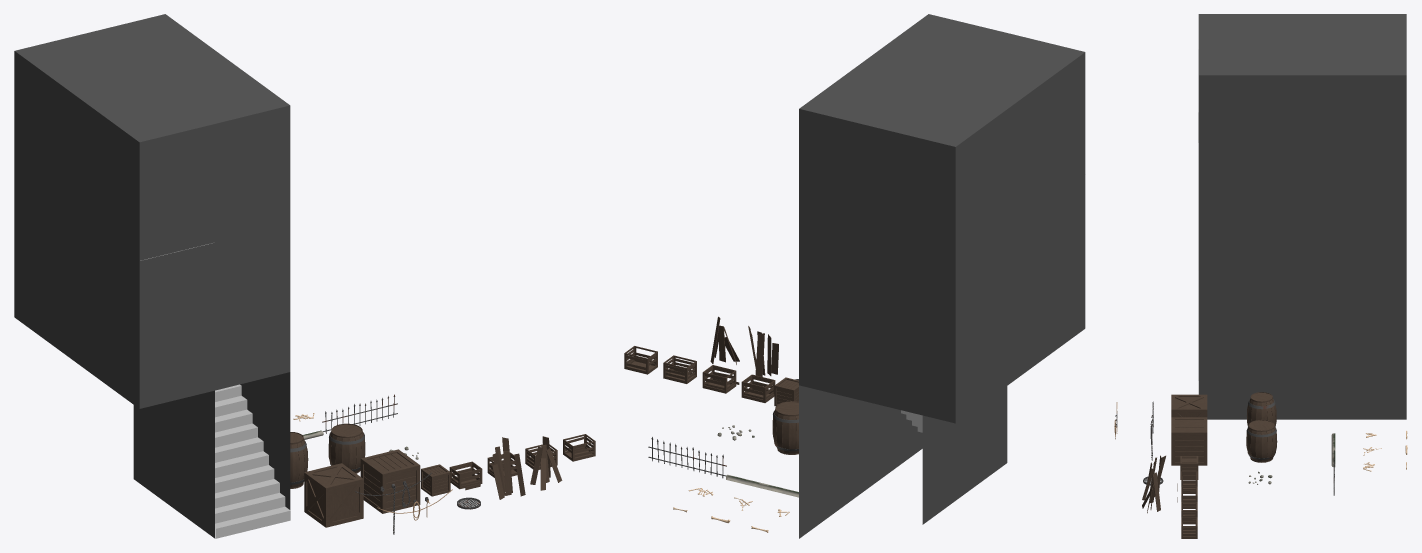
Rendered from CryptDetails1.fbx.
The picture shows the model from 3 angles, left to right: view 1: azimuth 30°, elevation 25°; view 2: azimuth 150°, elevation 25°; view 3: azimuth 270°, elevation 25°; orthographic projection. The views are drawn at different scales.
Parts seen in each view (by area): view 1: Plane, _Cube.009, CrateX, CrateBig, Barrel2, PlankStack1, Barrel1, PlankStack2, CrateSmall, CrateOpen1, CrateOpen2Broken; view 2: Plane, Barrel2, PlankStack1, CrateOpen1Broken, CrateOpen2, CrateOpen1, CrateOpen2Broken, Fence, PlankStack2, CrateSmall; view 3: Plane, CrateBig, Barrel2, CrateX, Barrel1, CrateSmall, CrateOpen2Broken.
Part boxes in pixels (<box>): Plane: <box>14,14,290,538</box>; _Cube.009: <box>215,384,290,538</box>; CrateX: <box>304,463,363,527</box>; CrateBig: <box>360,449,420,513</box>; Barrel2: <box>328,423,365,473</box>; PlankStack1: <box>492,437,525,499</box>; Barrel1: <box>290,432,308,488</box>; PlankStack2: <box>530,436,562,490</box>; CrateSmall: <box>421,464,450,496</box>; CrateOpen1: <box>449,461,482,489</box>; CrateOpen2Broken: <box>563,434,595,461</box>; Plane: <box>799,14,1085,538</box>; Barrel2: <box>772,401,798,454</box>; PlankStack1: <box>748,326,778,376</box>; CrateOpen1Broken: <box>702,365,736,393</box>; CrateOpen2: <box>663,355,696,383</box>; CrateOpen1: <box>741,374,775,402</box>; CrateOpen2Broken: <box>624,346,657,374</box>; Fence: <box>648,437,726,478</box>; PlankStack2: <box>710,316,739,364</box>; CrateSmall: <box>774,377,798,406</box>; Plane: <box>1198,14,1406,419</box>; CrateBig: <box>1171,417,1207,465</box>; Barrel2: <box>1246,419,1277,462</box>; CrateX: <box>1171,394,1207,417</box>; Barrel1: <box>1247,392,1276,426</box>; CrateSmall: <box>1180,456,1198,479</box>; CrateOpen2Broken: <box>1181,517,1197,538</box>.
Size of the model in its own units: 1180 by 1082 by 810.
